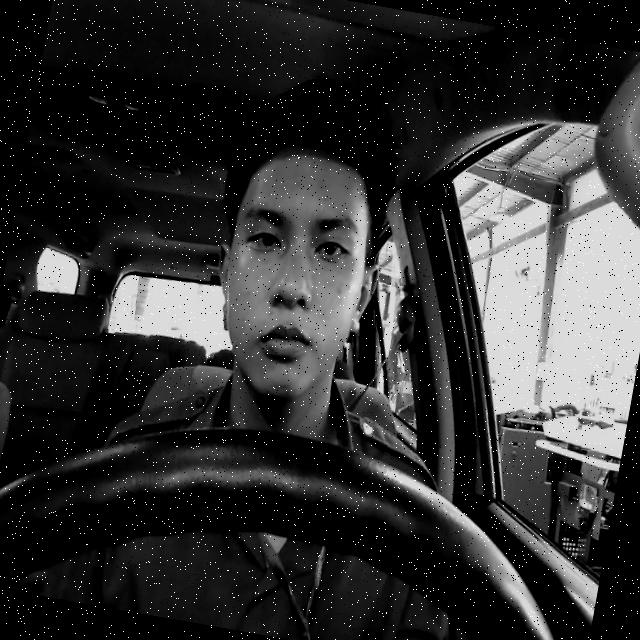focused: (196, 132, 398, 411)
